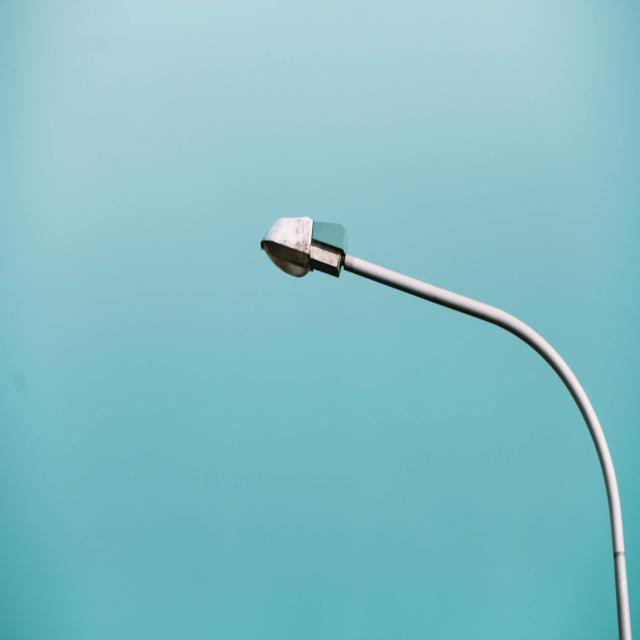Street Light: (261, 215, 633, 640)
